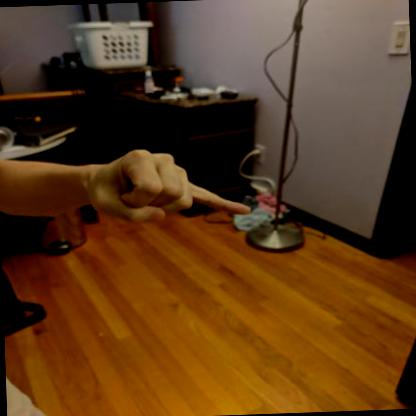J: (87, 148, 251, 223)
